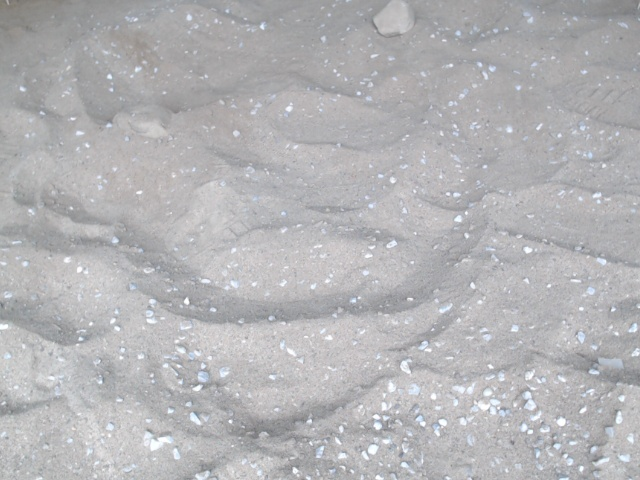rock: (107, 97, 186, 146), (367, 1, 421, 41)
